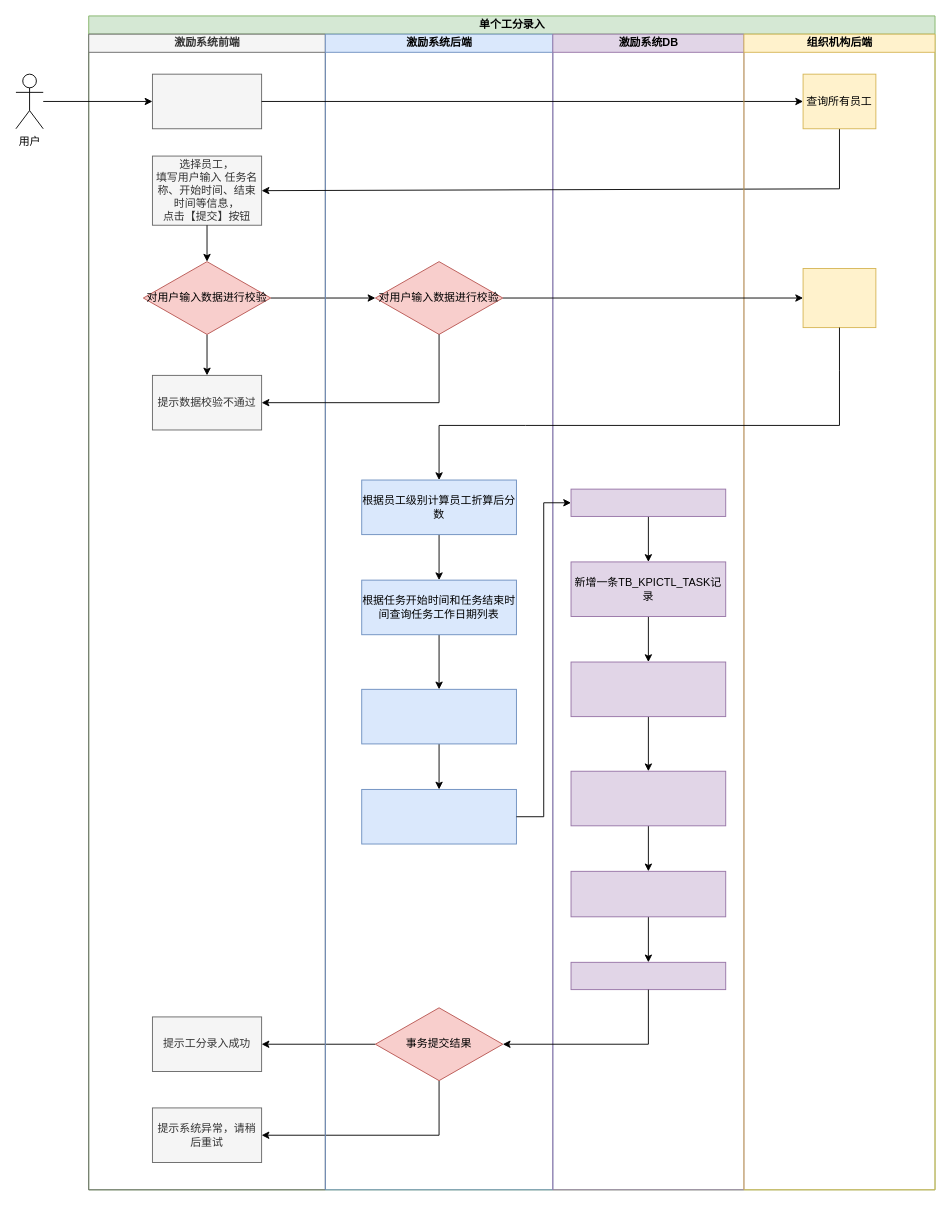
Image size: 951x1206. Some labels were removed from this diagram. Here are the shapes that lost their labels. From the top down, the centre of each, then its label:
point 207,101: 点击【工分录入】按钮
point 839,298: 查询员工信息
point 648,502: 开始事务
point 648,689: 根据日期新增TB_KPICTL_DAY_TASK_SCORE记录
point 438,716: 根据总分、员工级别、工作日期计算每日的原始工分和折算后工分
point 438,816: 根据每日工分计算每月的原始工分和折算后工分
point 648,798: 根据日期修改（新增）TB_KPICTL_DAY_SCORE记录
point 648,893: 根据月份修改（新增）TB_KPICTL_MONTH_SCORE记录
point 648,975: 提交事务
